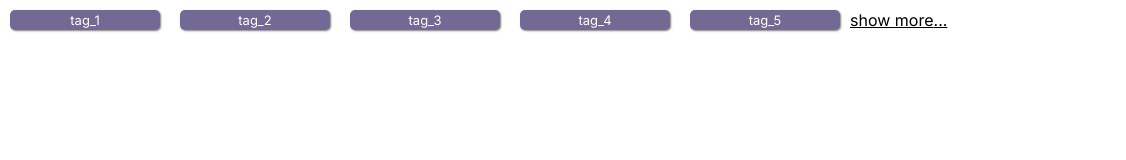
Test case: Nav-Tag-List component › passed more than 5 tags › should display 5 tags and hide the others
expect the text "tag_1" is shown 5 times: met, box [70, 12, 100, 28]; [238, 12, 272, 28]; [408, 12, 442, 28]; [578, 12, 612, 28]; [749, 12, 781, 28]
Click the text "show more..." at (899, 20), box [850, 10, 947, 30]
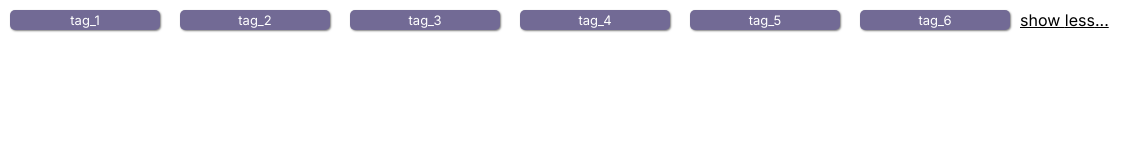
expect the text "tag_1" is shown 6 times: met, box [70, 12, 100, 28]; [238, 12, 272, 28]; [408, 12, 442, 28]; [578, 12, 612, 28]; [749, 12, 781, 28]; [918, 12, 952, 28]
expect the text "show more" is gone: met
expect the text "show less..." is shown: met
Click the text "show less..." at (1064, 20), box [1020, 10, 1109, 30]
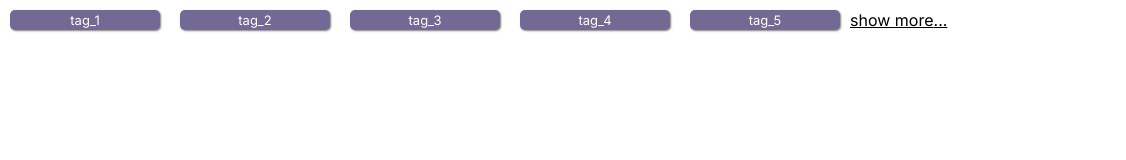
expect the text "tag_1" is shown 5 times: met, box [70, 12, 100, 28]; [238, 12, 272, 28]; [408, 12, 442, 28]; [578, 12, 612, 28]; [749, 12, 781, 28]
expect the text "show less" is gone: met
expect the text "show more..." is shown: met, box [850, 10, 947, 30]
